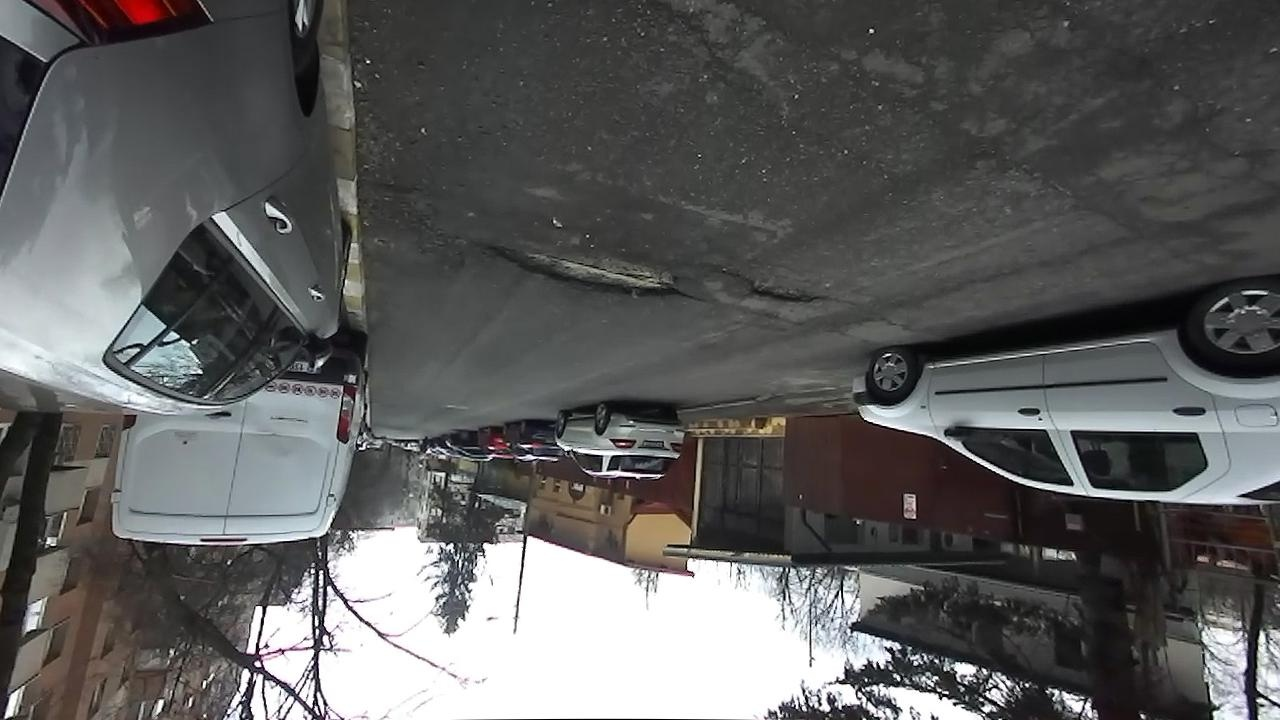pothole: (473, 234, 706, 308), (718, 266, 824, 307)
